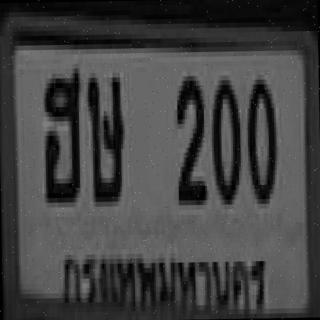A39: (85, 68, 124, 202)
A44: (42, 64, 80, 198)
N00: (209, 75, 239, 200), (245, 75, 275, 199)
N02: (175, 71, 205, 200)
P04: (60, 236, 268, 320)
